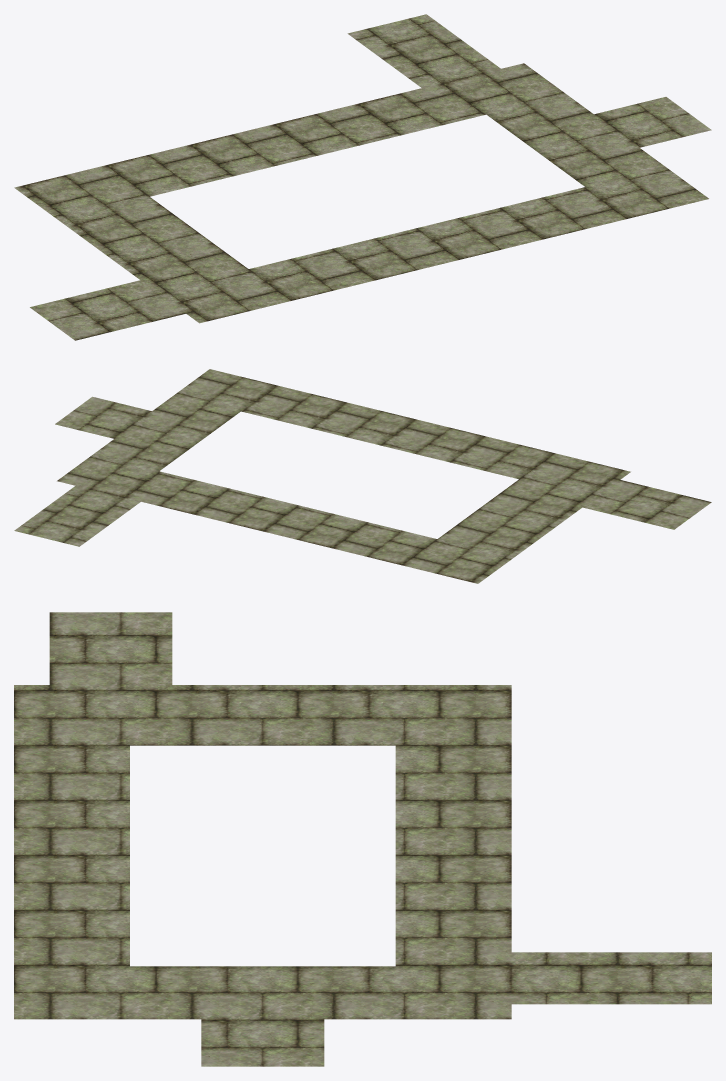
Rendered from OVERHILL_A_01_OBJECT205.fbx.
The picture shows the model from 3 angles, top to bottom: view 1: azimuth 30°, elevation 25°; view 2: azimuth 150°, elevation 25°; view 3: azimuth 270°, elevation 25°; orthographic projection. The views are drawn at different scales.
Visible parts, largest first — view 1: OVERHILL_A_01_OBJECT205; view 2: OVERHILL_A_01_OBJECT205; view 3: OVERHILL_A_01_OBJECT205.
Part boxes in pixels (box(x1,y1,x2,y2)): OVERHILL_A_01_OBJECT205: box(14, 14, 711, 340); OVERHILL_A_01_OBJECT205: box(14, 369, 711, 583); OVERHILL_A_01_OBJECT205: box(14, 612, 711, 1066).
Size of the model in its own units: 317958 by 0.0593 by 206505.
Materials: 1 (1 with a texture image).
